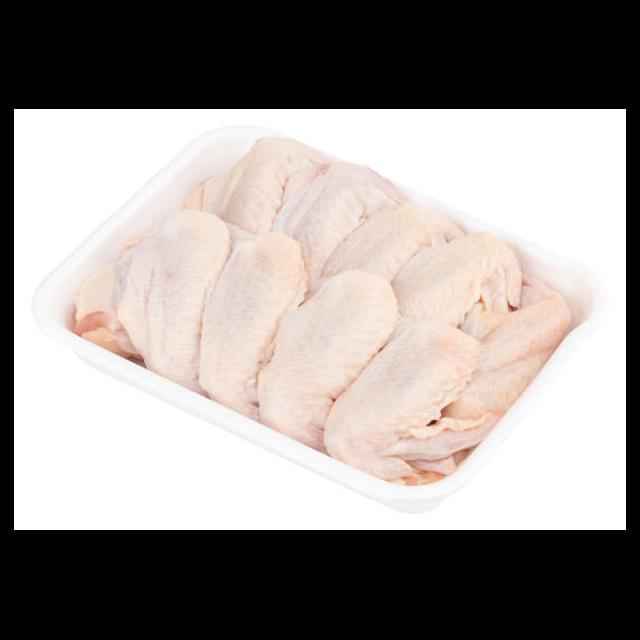chicken: (73, 138, 573, 486)
